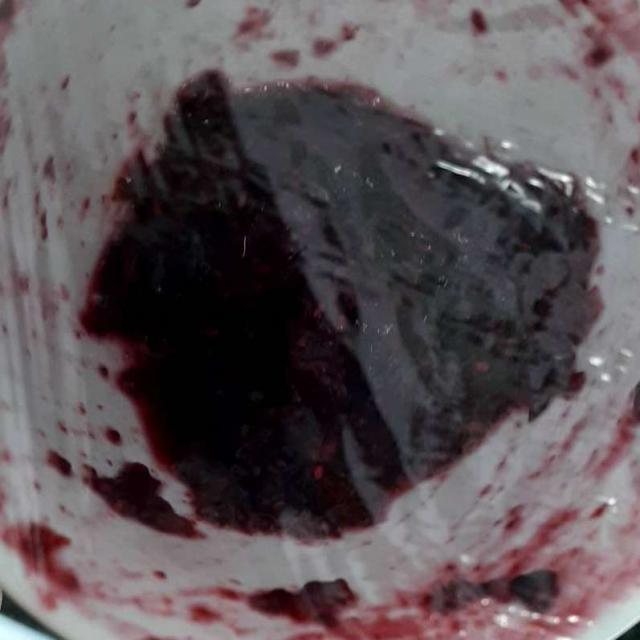blueberries: (82, 78, 624, 569)
